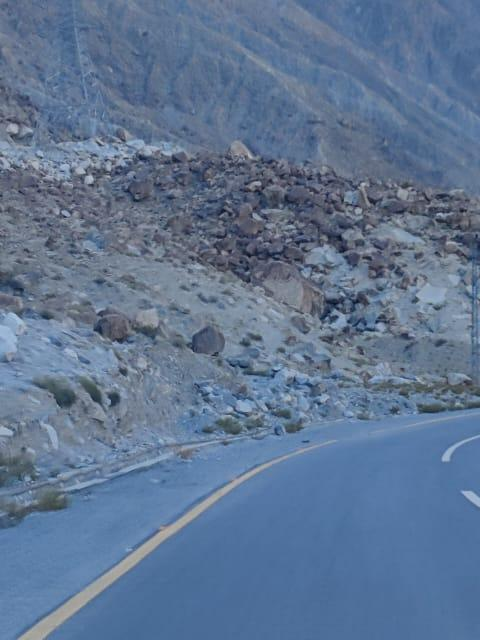right_turn: (319, 353, 480, 487)
